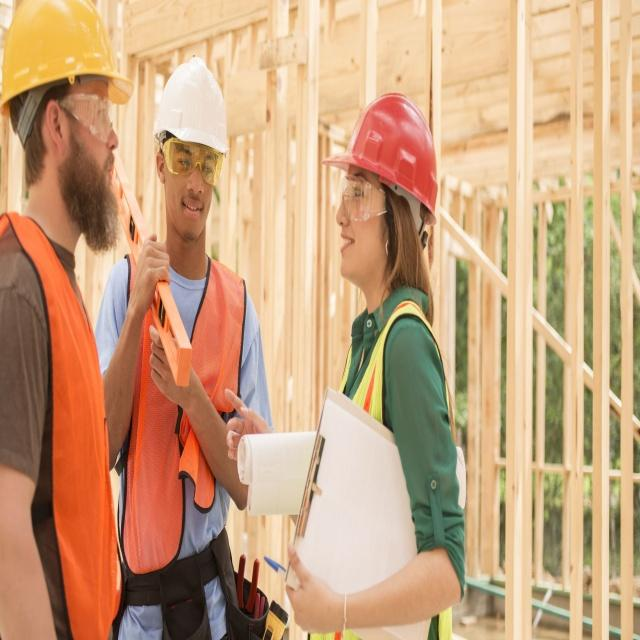helmet: (3, 1, 134, 324), (321, 120, 440, 379), (152, 74, 233, 314)
vest: (115, 337, 246, 640), (2, 325, 127, 640), (324, 412, 469, 607)
